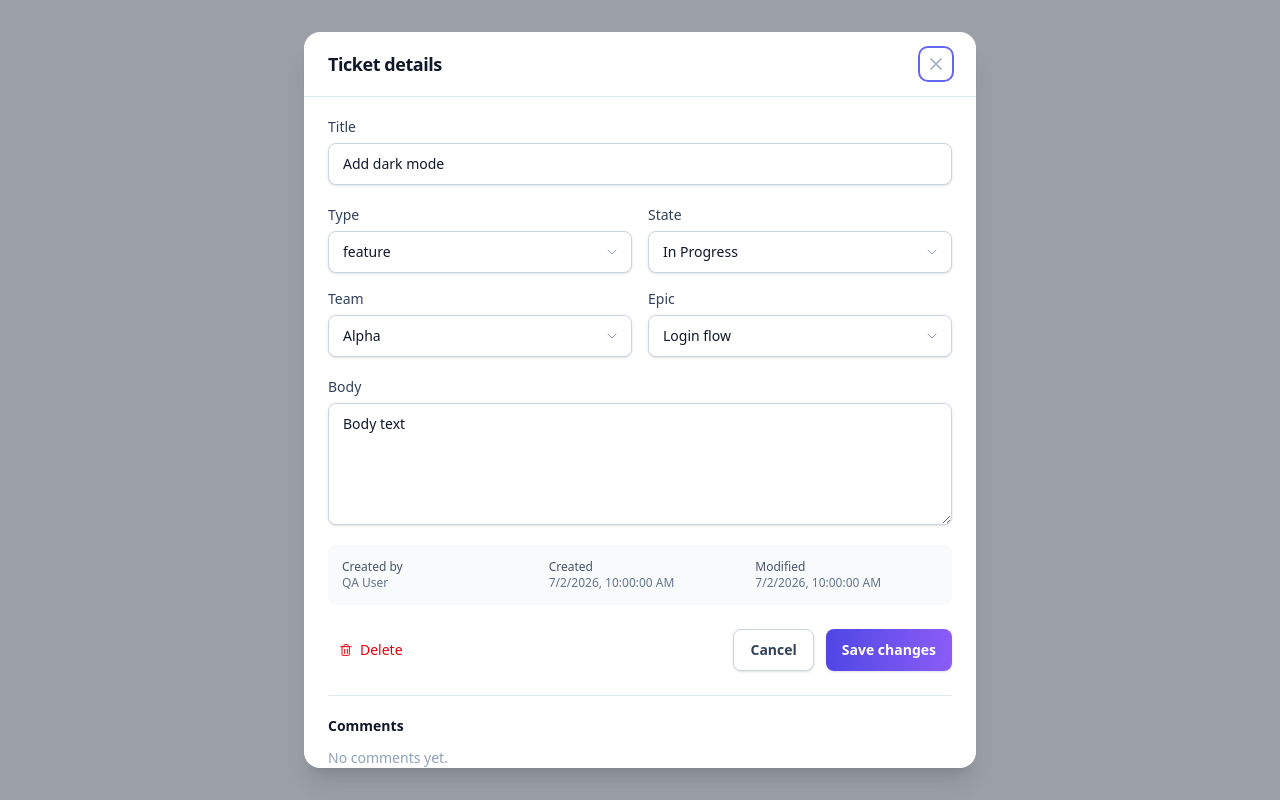
Test: changing team clears the selected epic
Expected: the dropdown labelled "Epic" shows "Login flow", x1=648 y1=315 x2=952 y2=357
Select "Beta" in the dropdown labelled "Team" at (480, 336), box x1=328 y1=315 x2=632 y2=357
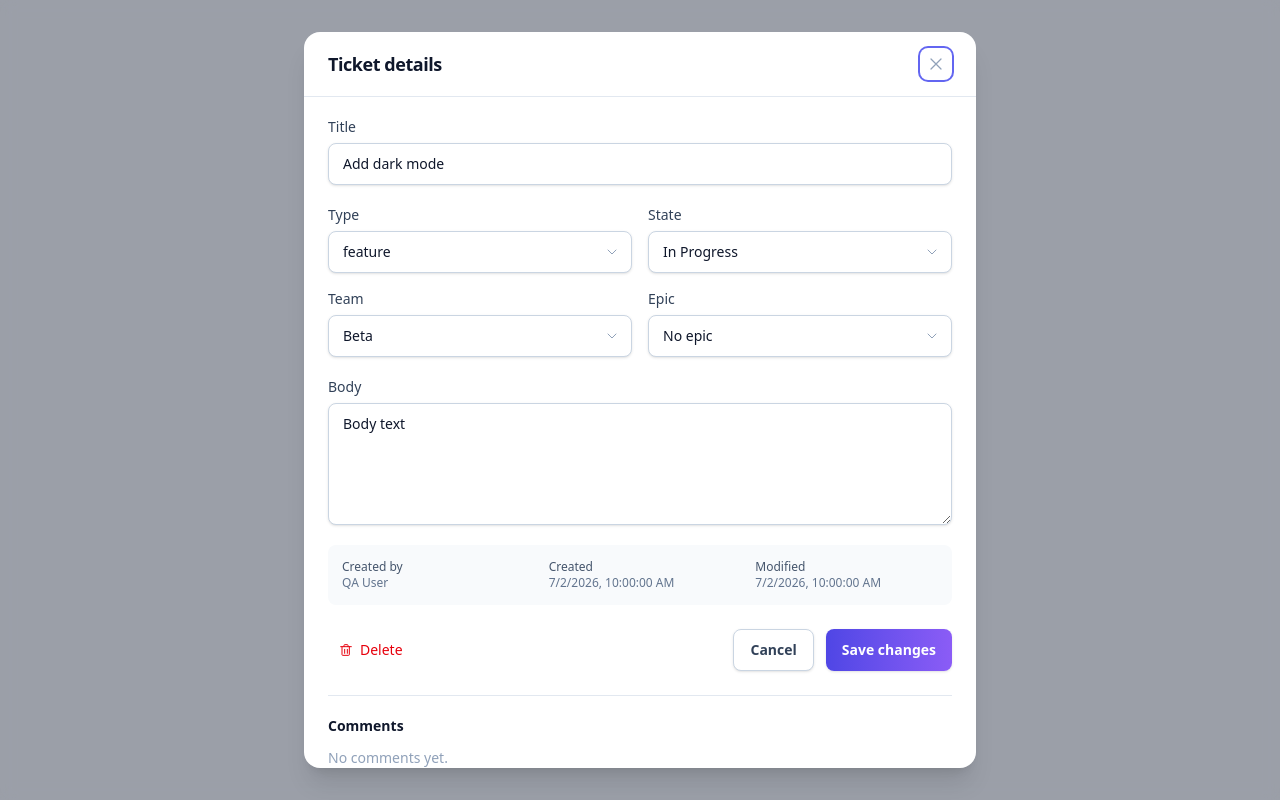
Now the dropdown labelled "Epic" shows "No epic", box x1=648 y1=315 x2=952 y2=357
